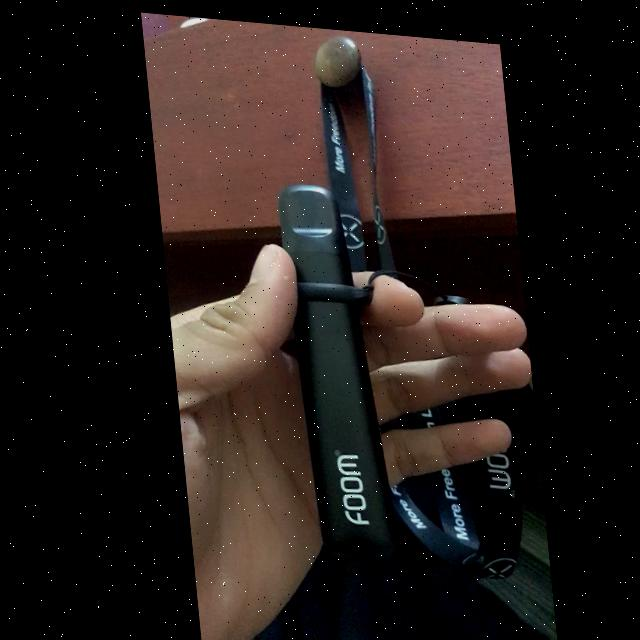vape: (272, 174, 392, 557)
